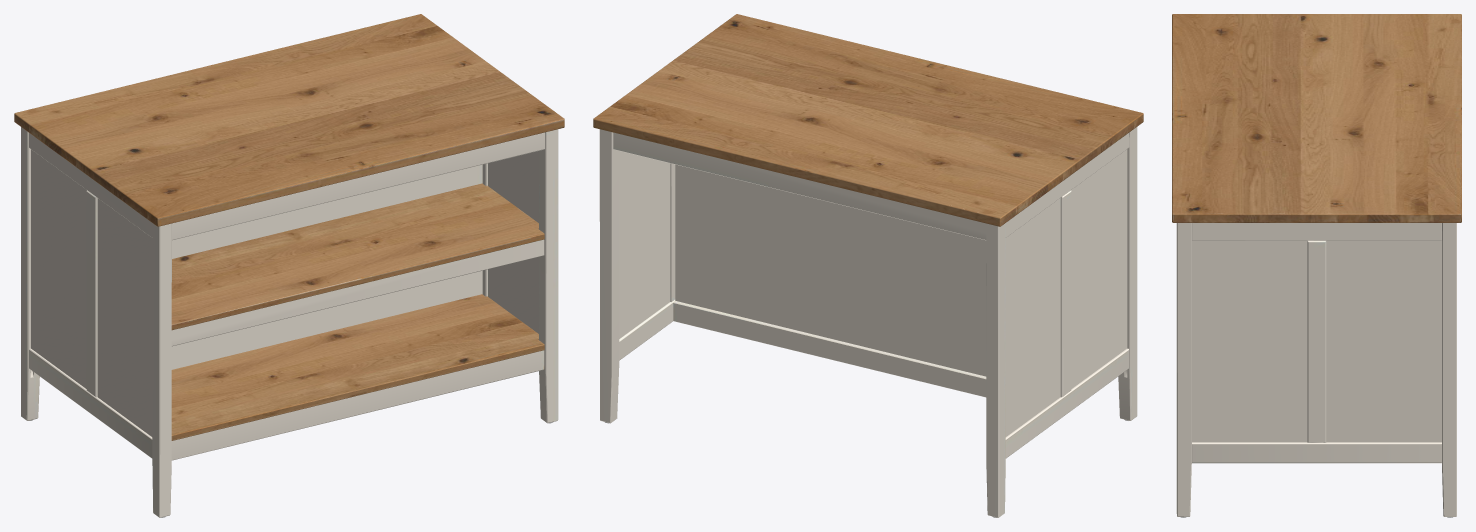
File: kitchen_island_40391657.glb
3 views of the same model, side by side, from view 1: azimuth 30°, elevation 25°; view 2: azimuth 150°, elevation 25°; view 3: azimuth 270°, elevation 25° (orthographic).
Parts seen in each view (by area): view 1: model; view 2: model; view 3: model.
Boxes of the visible parts, x1,y1,x2,y2 form: model: (14, 14, 564, 517); model: (593, 14, 1143, 517); model: (1172, 14, 1461, 517).
Bounding box in the file's own units: 1.26 × 0.9 × 0.77.
Materials: 1 (1 with a texture image).
